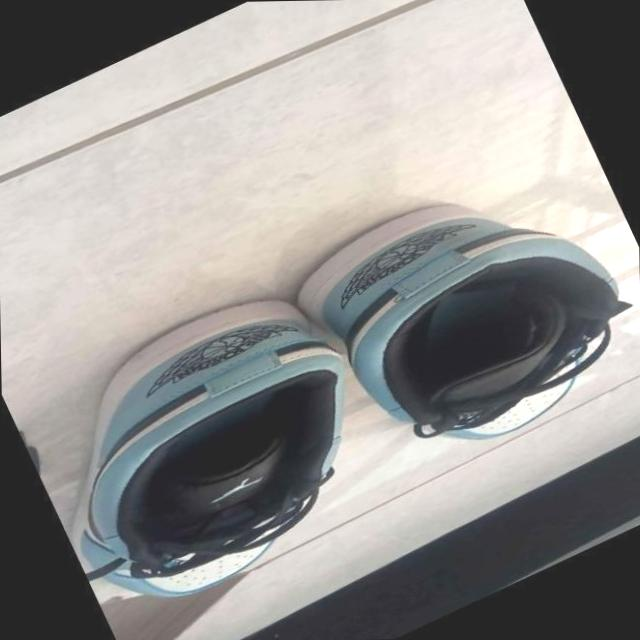nike_fake_jordan: (8, 267, 416, 637), (277, 138, 640, 481)
